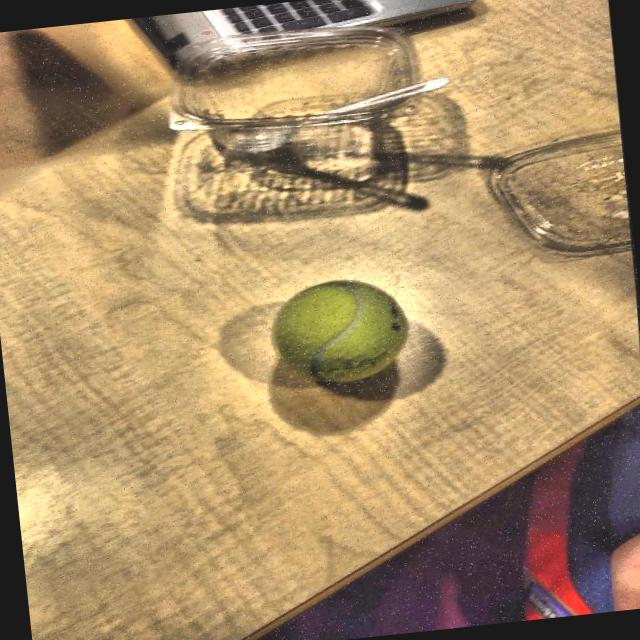Tennis Ball: (252, 269, 426, 402)
